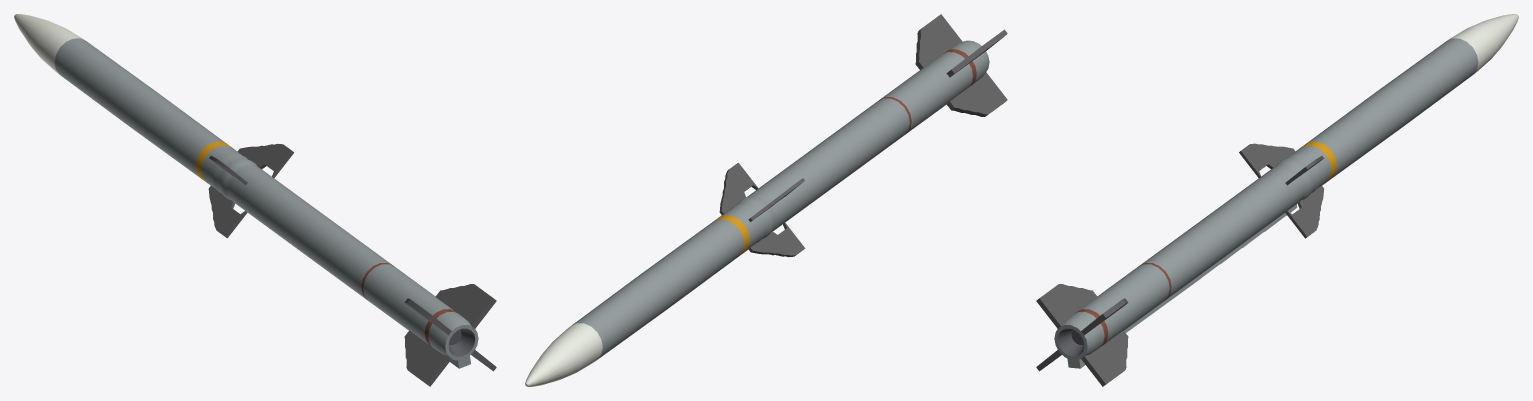
Rendered from aim120.glb.
3 views of the same model, side by side, from view 1: azimuth 30°, elevation 25°; view 2: azimuth 150°, elevation 25°; view 3: azimuth 330°, elevation 25° (orthographic).
Visible parts, largest first — view 1: aim120; view 2: aim120; view 3: aim120.
Part boxes in pixels (x1,y1,x2,y2): aim120: [14, 14, 496, 386]; aim120: [525, 14, 1007, 386]; aim120: [1036, 14, 1518, 386].
Size of the model in its own units: 0.3368 by 0.3368 by 3.72.
